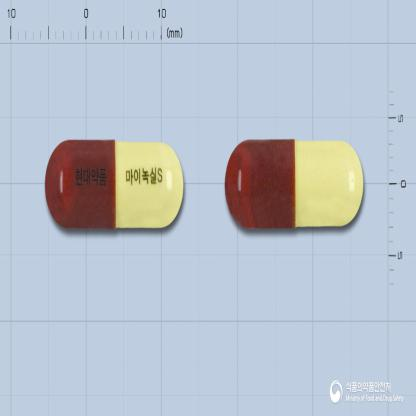pill: (44, 136, 184, 230), (224, 138, 365, 228)
